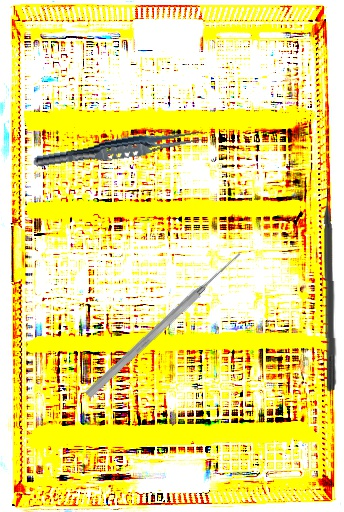Pusher: (83, 248, 245, 401), (322, 170, 339, 392)
Tissue Forceps: (31, 122, 209, 176)
